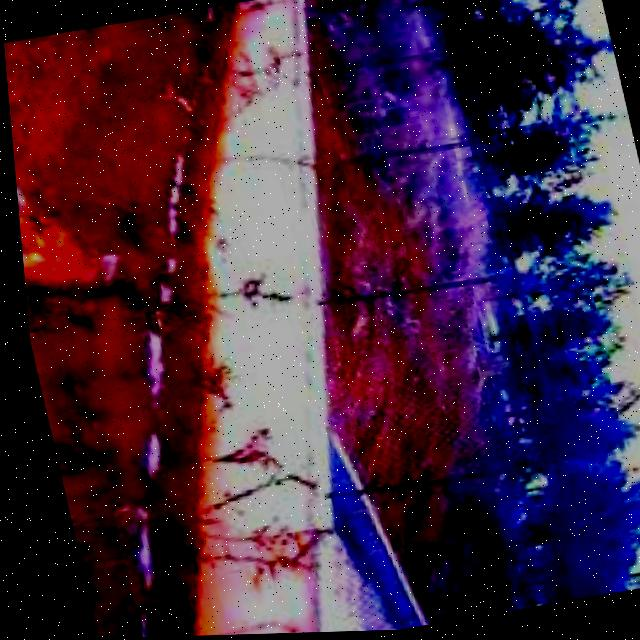Fire: (10, 139, 125, 306)
